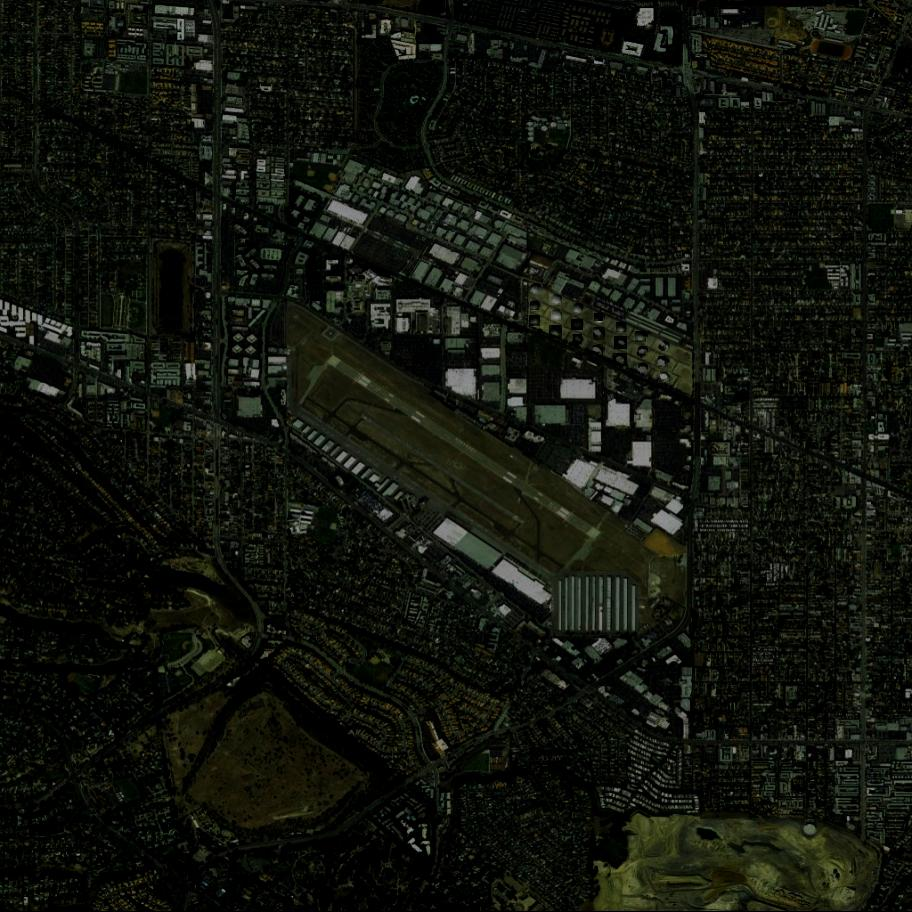storage-tank: (613, 353, 627, 367), (548, 325, 563, 338), (548, 294, 562, 307), (593, 327, 606, 341), (615, 336, 628, 350), (658, 372, 670, 385), (571, 319, 584, 331), (637, 346, 649, 359), (529, 284, 541, 297), (572, 303, 584, 315), (530, 316, 541, 328), (616, 322, 627, 333), (551, 310, 562, 321), (638, 364, 649, 375), (636, 332, 645, 342), (573, 334, 582, 344), (593, 345, 602, 355), (659, 356, 667, 367), (531, 302, 539, 310), (594, 314, 602, 321), (660, 342, 665, 348)
